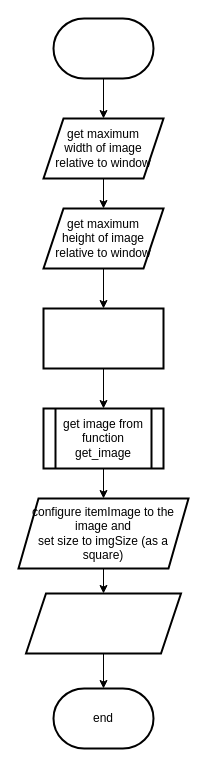
Some shapes in this 206 by 766 pixel diagram are drawn without their labels. Here are the shapes that lost their labels. From the top down, the box of each, then its label:
(52, 17, 154, 79): start
(42, 307, 164, 369): set imgSize to the smaller of the width/hieght values
(24, 592, 182, 654): configure imageLabel to the itemImage
